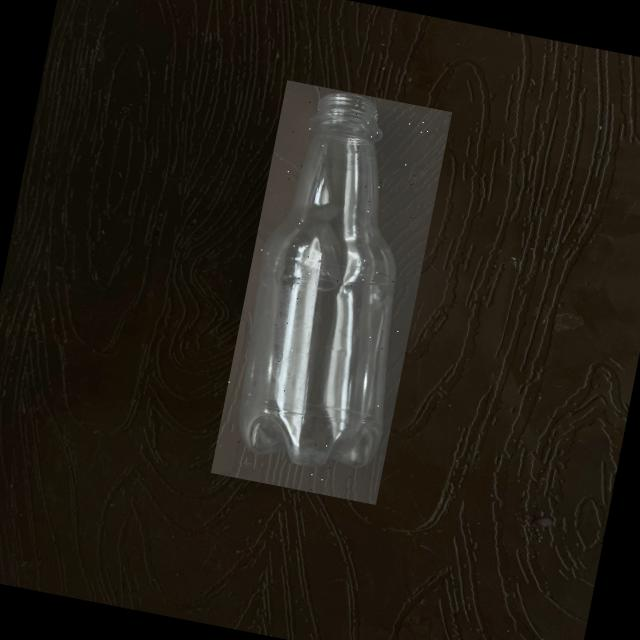PET_ClearBottle: (210, 79, 451, 504)
